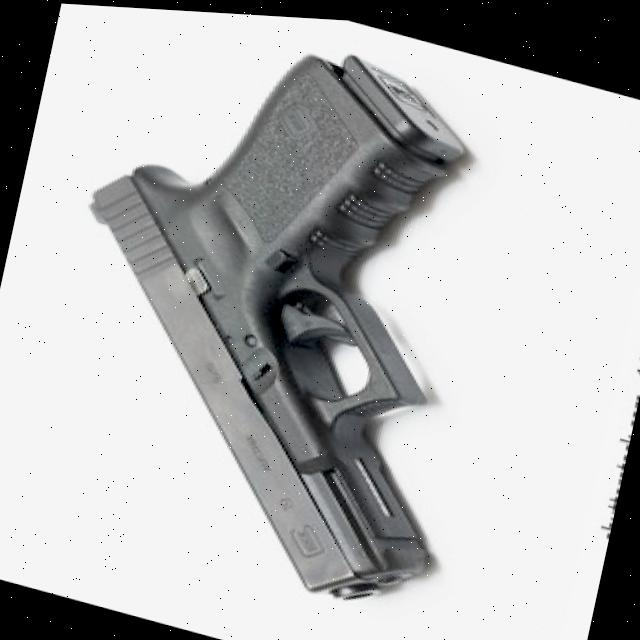pistol: (15, 1, 538, 626)
